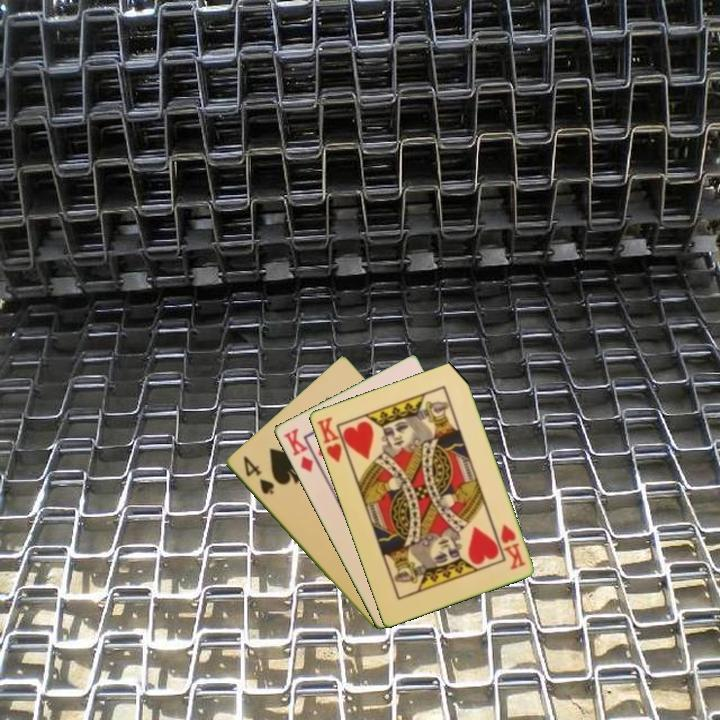4s: (239, 452, 277, 498)
Kd: (280, 424, 316, 475)
Kh: (313, 413, 352, 465), (496, 520, 528, 572)
